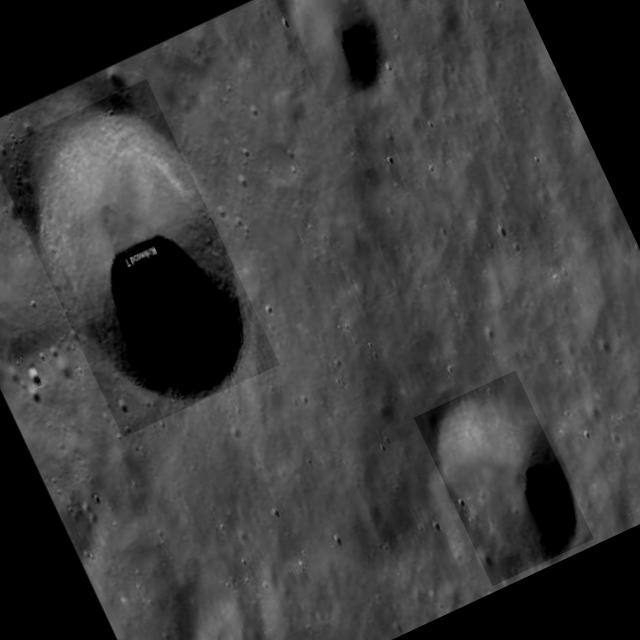crater: (0, 78, 280, 437), (414, 370, 594, 586), (272, 0, 399, 107)
